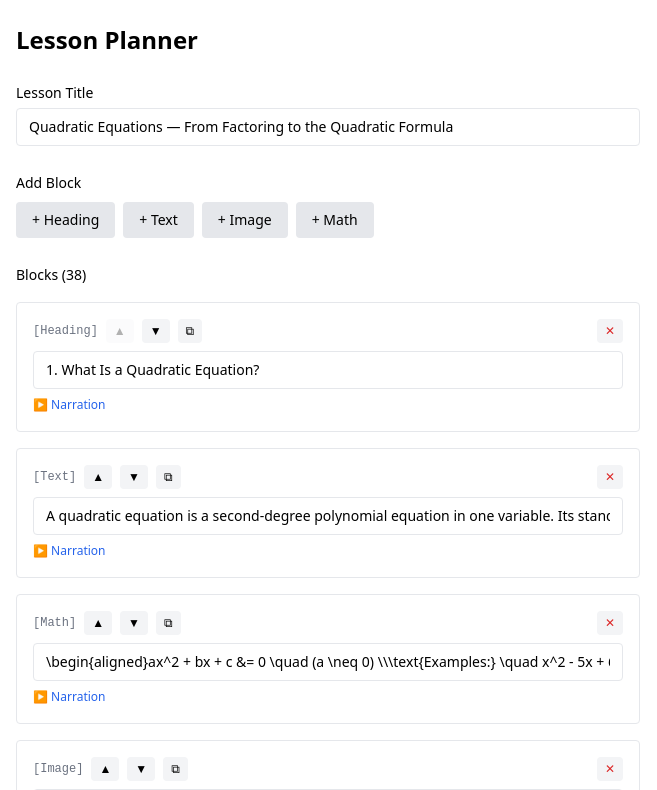
LessonPlanner › shows error-like output for invalid LaTeX input
# Add a new math block
Step 1. Click the button "+ Math" → (335, 220), box [296, 202, 374, 238]
(page scrolled)
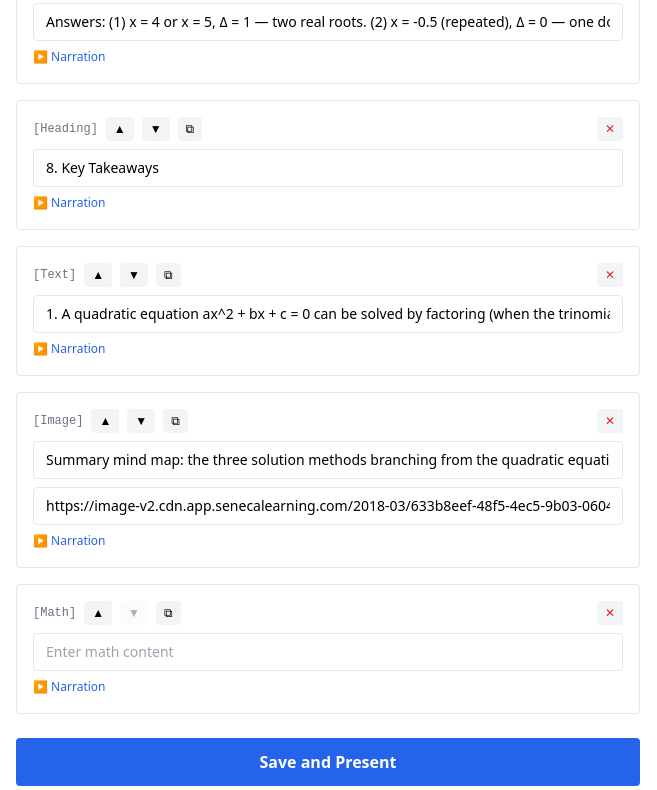
# Type "INVALID_LATEX" to trigger error path
Step 2. Type "INVALID_LATEX" into the field with placeholder "Enter math content" → (328, 652), box [33, 633, 623, 671]
(page scrolled)
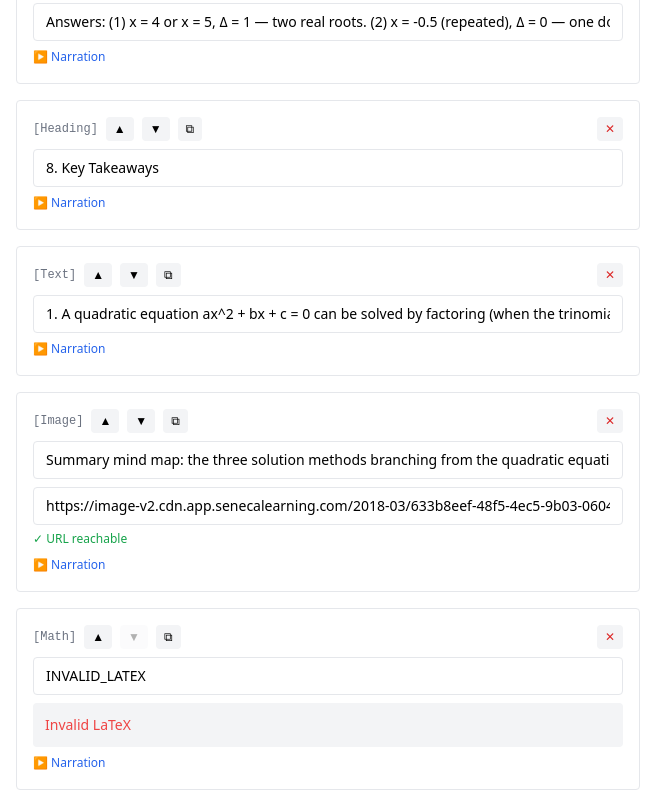
Check: the element with test id "^math-preview-" is shown, box [33, 703, 623, 747]
